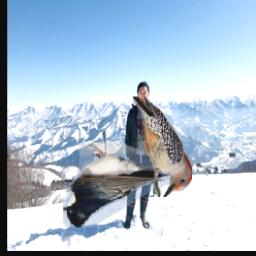Swallow: (63, 142, 170, 228)
Woodpecker: (134, 98, 193, 198)
